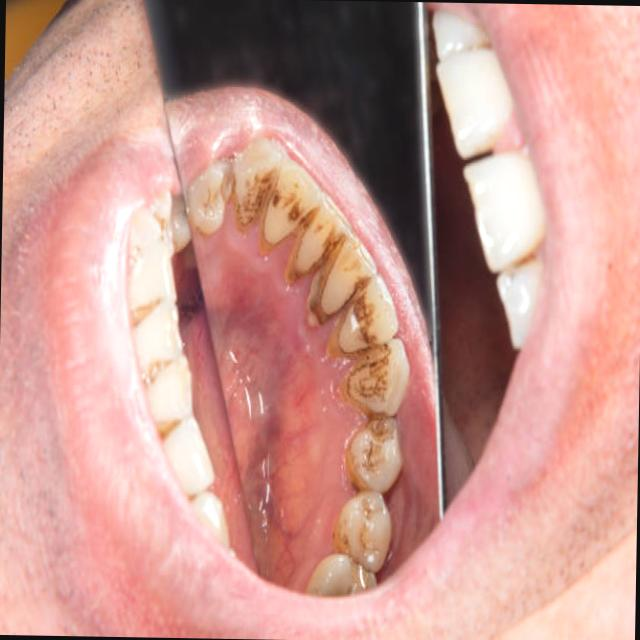calculus: (294, 232, 362, 321)
